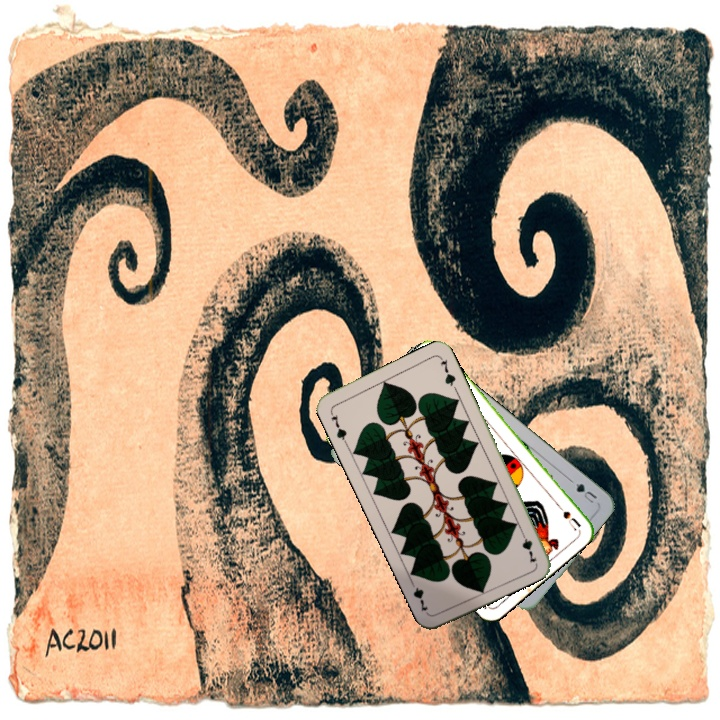G7: (516, 525, 539, 566), (326, 407, 350, 446)
GU: (572, 479, 600, 506)
SU: (550, 497, 583, 533)
